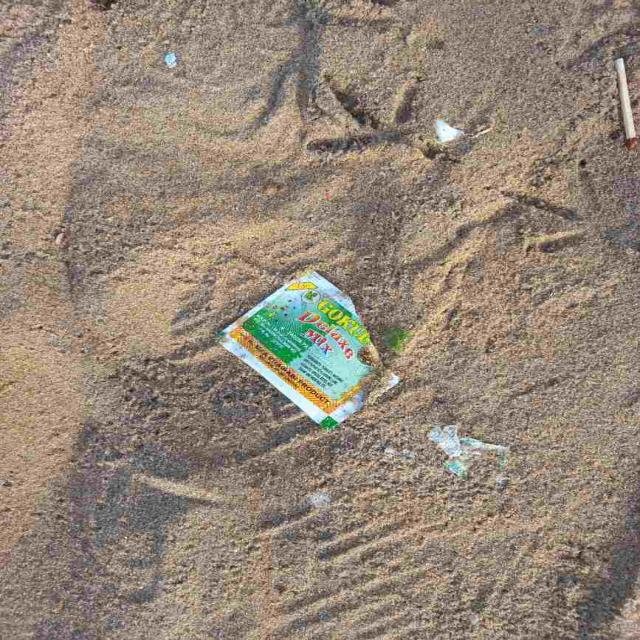biowaste: (616, 58, 639, 150)
wrapper: (221, 271, 380, 429)
